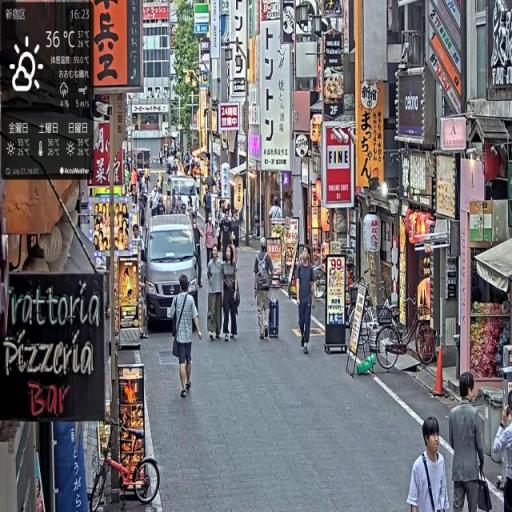person: (448, 371, 490, 512), (408, 416, 452, 512), (172, 274, 205, 399), (295, 243, 317, 357), (492, 397, 512, 512), (254, 237, 276, 340), (221, 247, 241, 343), (207, 245, 225, 344), (204, 215, 217, 281)
